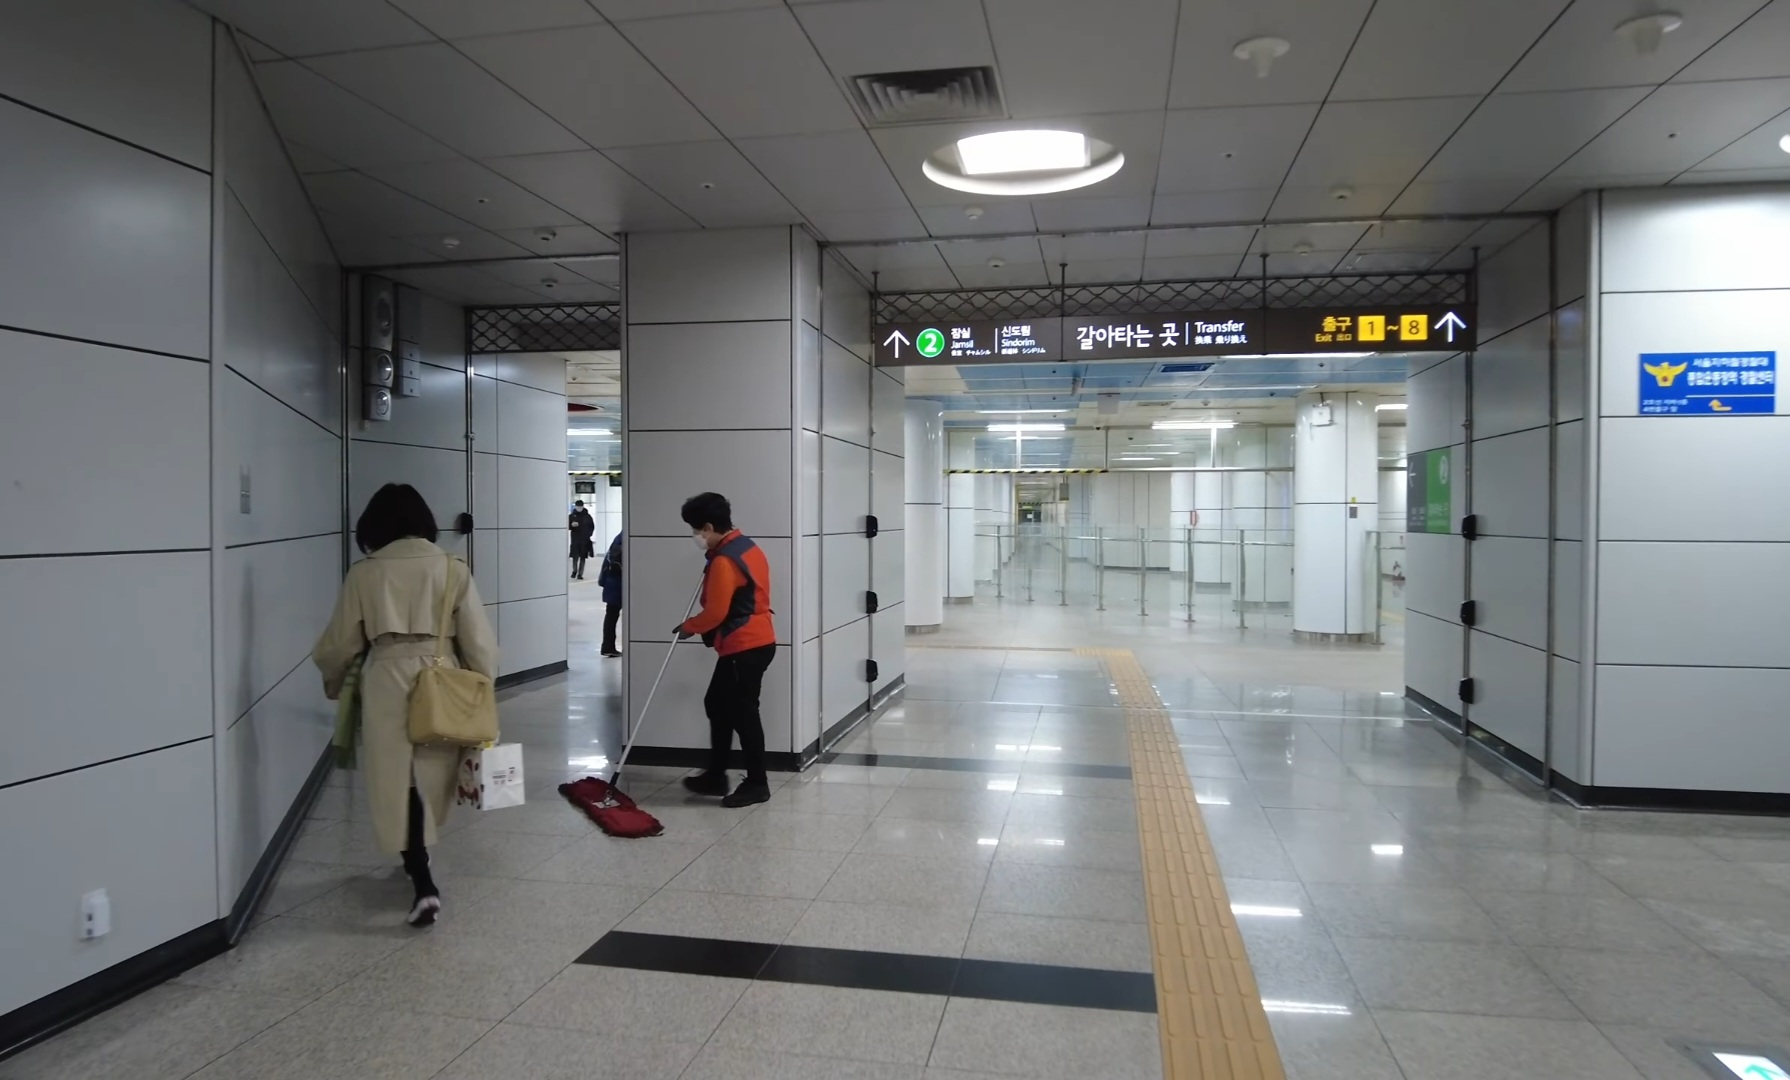signBoard: (864, 294, 1481, 372)
